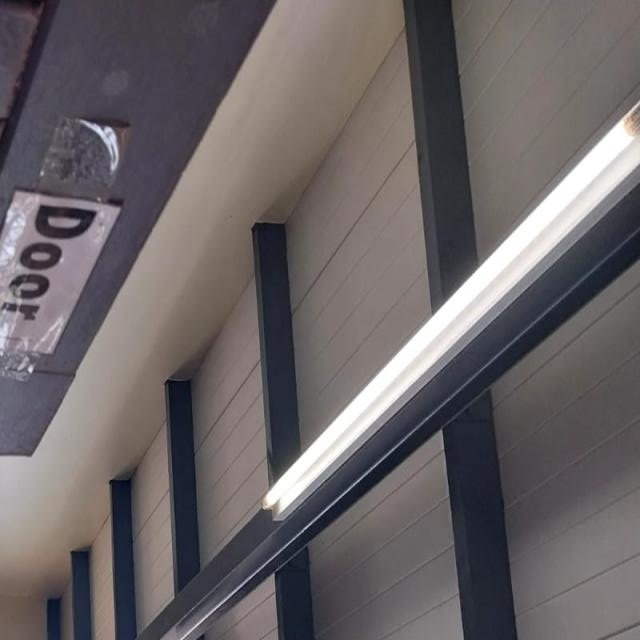fluorescent tube: (236, 0, 640, 563), (24, 634, 132, 640)
